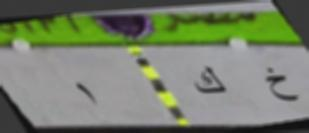1: (75, 75, 97, 109)
kaaf: (192, 62, 226, 102)
khaa: (261, 63, 300, 109)
